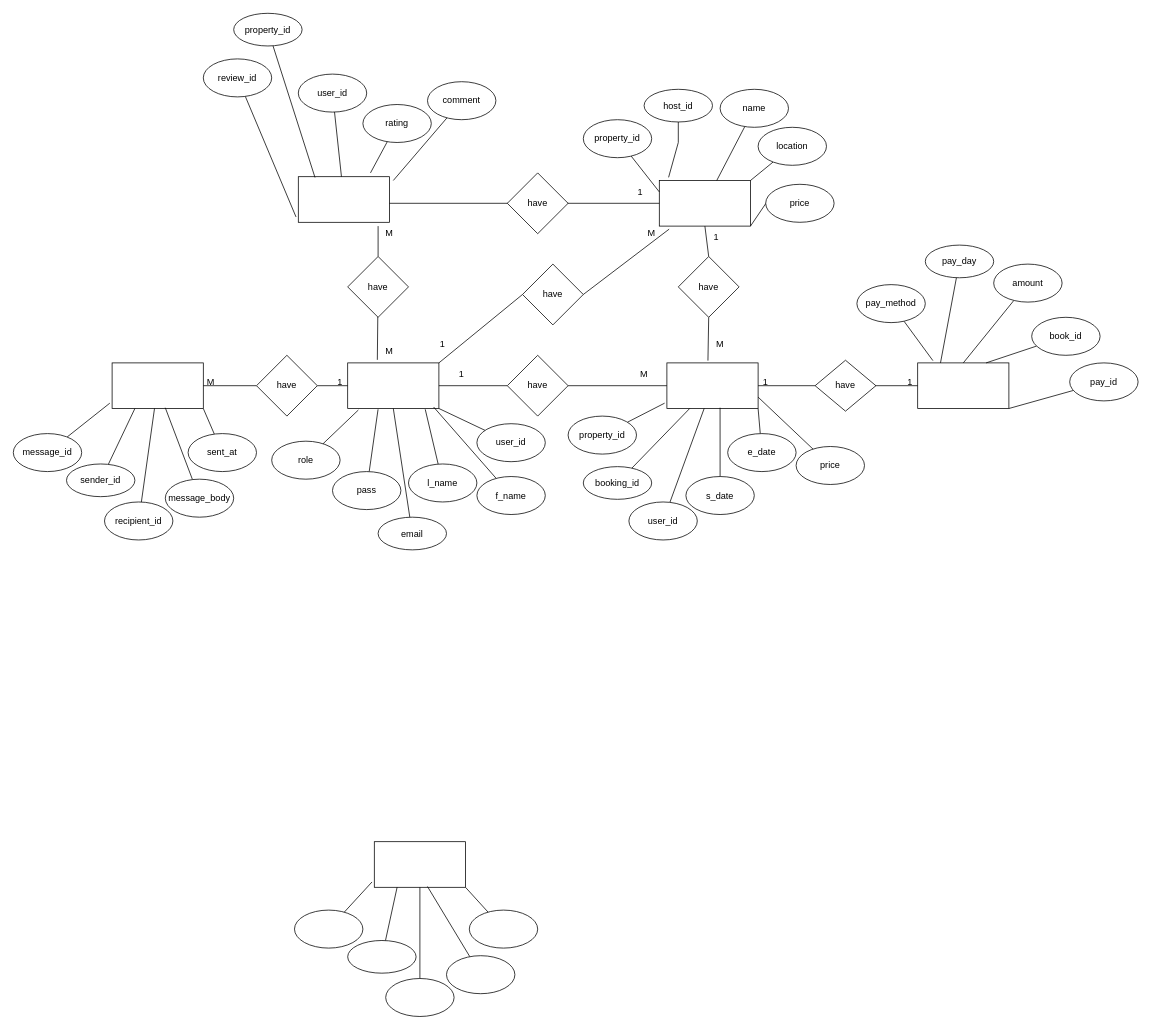
Some shapes in this 1151 by 1030 pixel diagram are drawn without their labels. Here are the shapes that lost their labels. From the top down, the box of each, then its label:
(298, 176, 390, 222): Reviews
(659, 180, 750, 226): property
(111, 362, 203, 408): Message
(347, 362, 439, 408): User
(666, 362, 758, 408): Booking
(917, 362, 1009, 408): Payement
